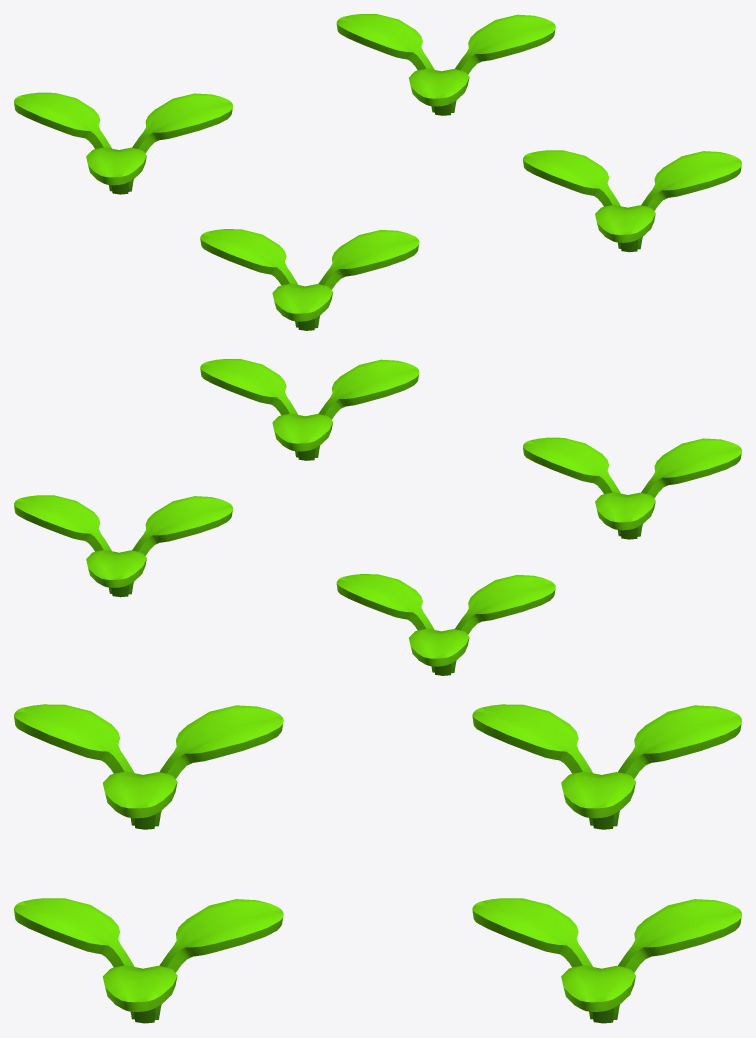
File: Farm_Crop_Cauliflower_Step_01.fbx
3 views of the same model, one above another, from view 1: azimuth 30°, elevation 25°; view 2: azimuth 150°, elevation 25°; view 3: azimuth 270°, elevation 25° (orthographic). The views are drawn at different scales.
Parts seen in each view (by area): view 1: Farm_Crop_Cauliflower_Step_01; view 2: Farm_Crop_Cauliflower_Step_01; view 3: Farm_Crop_Cauliflower_Step_01.
Part boxes in pixels (bbox=[...]): Farm_Crop_Cauliflower_Step_01: bbox=[14, 14, 741, 330]; Farm_Crop_Cauliflower_Step_01: bbox=[14, 359, 741, 675]; Farm_Crop_Cauliflower_Step_01: bbox=[14, 704, 741, 1023].
Size of the model in its own units: 154 by 20.81 by 159.
